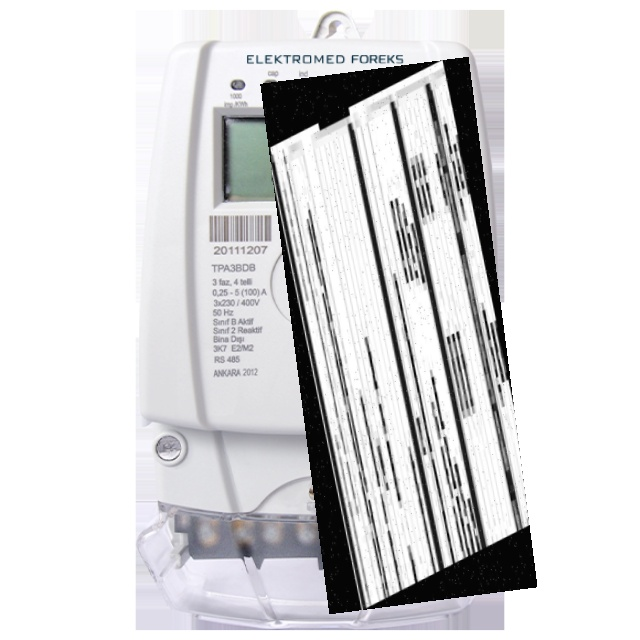electricity-bill: (260, 57, 536, 614)
